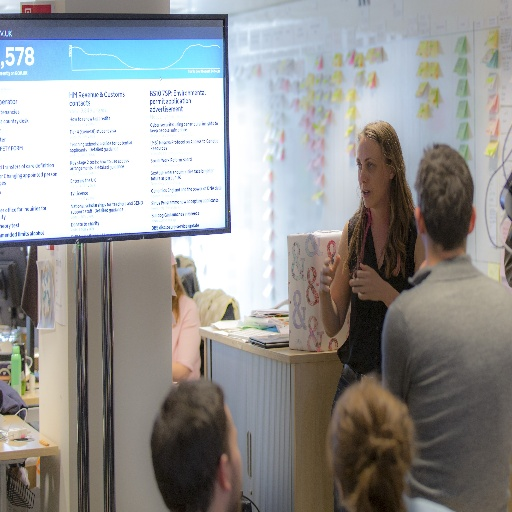hand: (349, 261, 384, 304), (318, 251, 341, 297)
